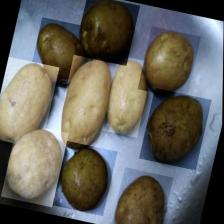Potato: (53, 51, 119, 156), (139, 88, 212, 170), (2, 122, 69, 207), (0, 56, 59, 148), (53, 141, 118, 216), (28, 17, 91, 91), (138, 26, 201, 100), (74, 0, 140, 66), (102, 55, 154, 138), (112, 167, 174, 224)
